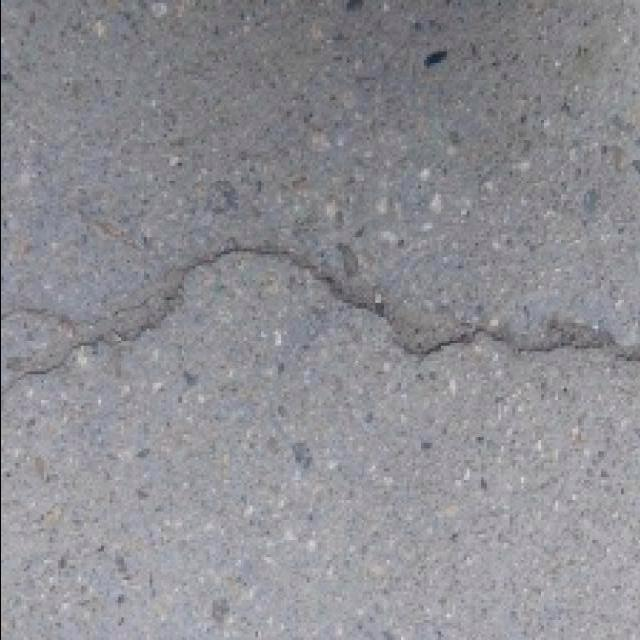SurfaceCrack: (4, 220, 632, 400)
